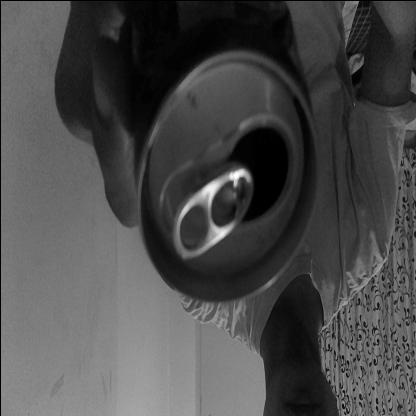alumunium_can: (124, 0, 321, 303)
